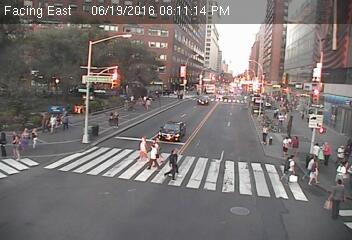neg: (80, 124, 97, 147), (85, 38, 97, 55), (107, 93, 115, 105)
pos: (323, 177, 351, 218), (160, 146, 185, 180), (305, 159, 327, 188), (279, 154, 300, 181), (7, 129, 25, 154), (133, 133, 151, 156), (256, 124, 273, 146), (145, 144, 161, 166), (320, 137, 335, 158), (45, 112, 60, 132), (28, 127, 42, 145), (280, 134, 294, 152), (335, 144, 348, 161), (109, 109, 121, 125), (19, 124, 31, 139), (310, 142, 322, 157), (105, 110, 116, 125), (335, 161, 346, 176), (276, 112, 286, 126), (143, 96, 152, 108), (271, 107, 280, 118)
